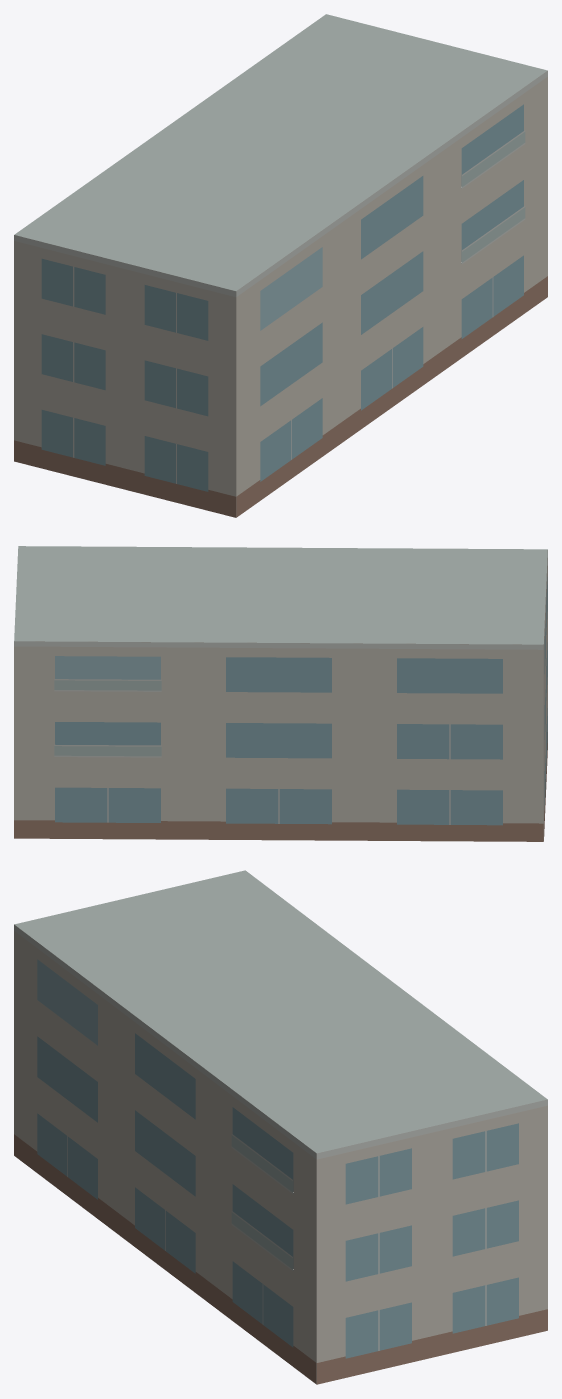
File: survey-upis-32685549.glb
3 renders of one model, top to bottom at view 1: azimuth 30°, elevation 25°; view 2: azimuth 150°, elevation 25°; view 3: azimuth 270°, elevation 25°, orthographic. The views are drawn at different scales.
Visible parts, largest first — view 1: survey-upis-32685549.tmp; view 2: survey-upis-32685549.tmp; view 3: survey-upis-32685549.tmp.
Boxes of the visible parts, x1,y1,x2,y2 form: survey-upis-32685549.tmp: (14, 14, 547, 517); survey-upis-32685549.tmp: (14, 546, 547, 841); survey-upis-32685549.tmp: (14, 870, 547, 1384).
Bounding box in the file's own units: 24.05 × 9.15 × 19.16.
